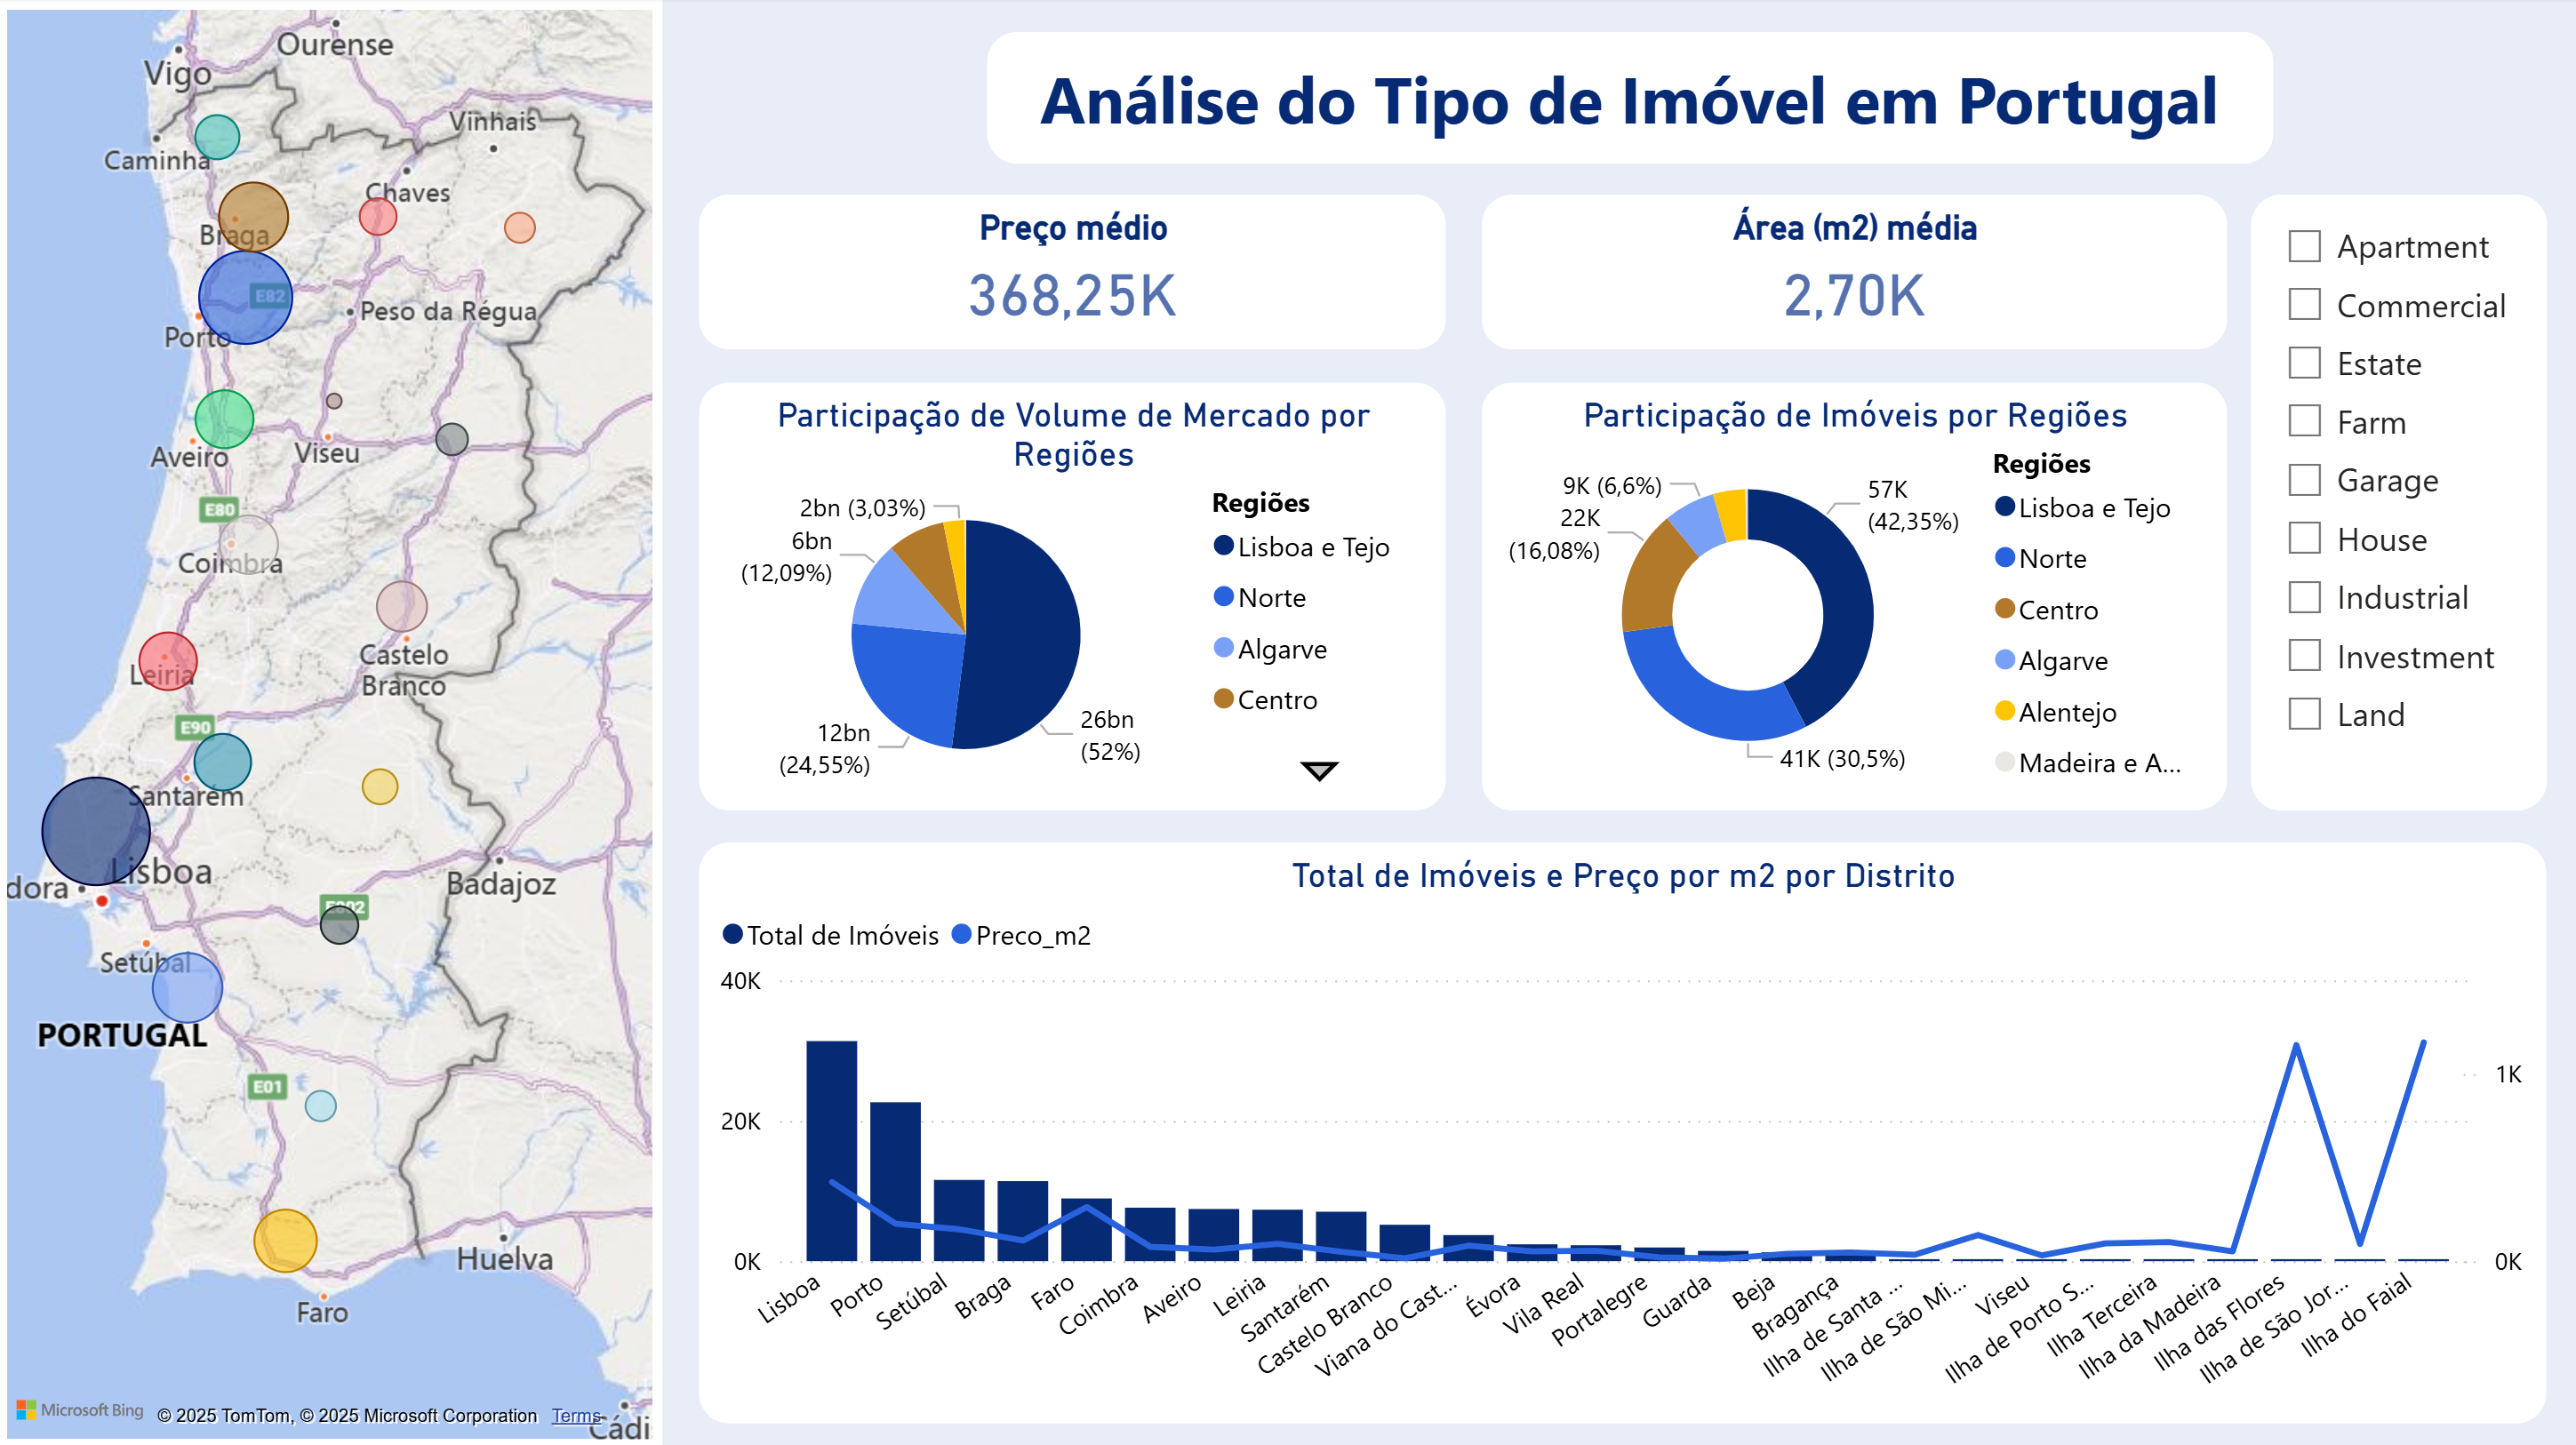

This screenshot's page, from the dashboard's own definition file:
{"tool":"powerbi","page":{"name":"Dashboard 2","canvas":[1280,720],"ordinal":1},"visuals":[{"type":"map","fields":{"Category":["Analise 2.District"],"Series":["Analise 2.District"],"Size":["Analise 2.Qtd_Vendas"]},"box":[0,0.8,329.7,719.2],"z":0},{"type":"lineStackedColumnComboChart","title":"Total de Imóveis e Preço por m2 por Distrito","fields":{"Category":["Analise 2.District"],"Y":["Analise 2.Qtd_Vendas"],"Y2":["Analise 2.Preco_m2"]},"box":[348.5,419.1,915.2,287.9],"z":1000},{"type":"slicer","fields":{"Values":["Analise 2.Type_Agregado"]},"box":[1117.1,97.8,146.6,305.1],"z":2000},{"type":"pieChart","title":"Participação de Volume de Mercado por Regiões","fields":{"Y":["Sum(Analise 2.Price)"],"Category":["Analise 2.Regiões"]},"box":[348.5,191,370.2,211.8],"z":3000},{"type":"donutChart","title":"Participação de Imóveis por Regiões","fields":{"Y":["Analise 2.Qtd_Vendas"],"Category":["Analise 2.Regiões"]},"box":[736,191,369.3,211.8],"z":4000},{"type":"card","title":"Preço médio","fields":{"Values":["Avg(Analise 2.Price)"]},"box":[348.5,97.8,370.2,76.9],"z":5000},{"type":"card","title":"Área (m2) média","fields":{"Values":["Avg(Analise 2.LivingArea)"]},"box":[736,97.8,369.3,76.9],"z":6000},{"type":"textbox","box":[490.6,17.2,637.3,65.2],"z":7000}]}

Visuals, with their boxes in screenshot pixels (x1, y1, x2, y2), scaled from the page's 1280x720 canvas onto the 2576x1445 screenshot:
map - Analise 2.District x Analise 2.District: <box>0,2,663,1444</box>
"Total de Imóveis e Preço por m2 por Distrito" lineStackedColumnComboChart: <box>701,841,2543,1419</box>
slicer - Analise 2.Type_Agregado: <box>2248,196,2543,809</box>
"Participação de Volume de Mercado por Regiões" pieChart: <box>701,383,1446,809</box>
"Participação de Imóveis por Regiões" donutChart: <box>1481,383,2224,809</box>
"Preço médio" card: <box>701,196,1446,351</box>
"Área (m2) média" card: <box>1481,196,2224,351</box>
textbox: <box>988,35,2270,165</box>
